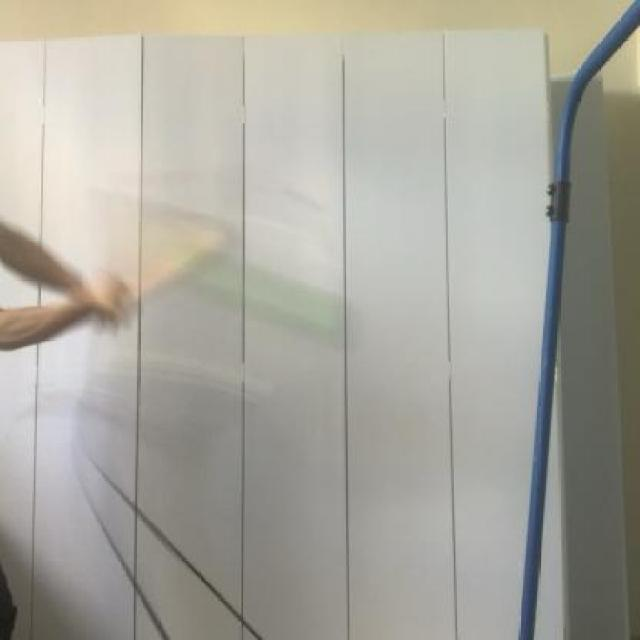baseball: (179, 229, 372, 365)
